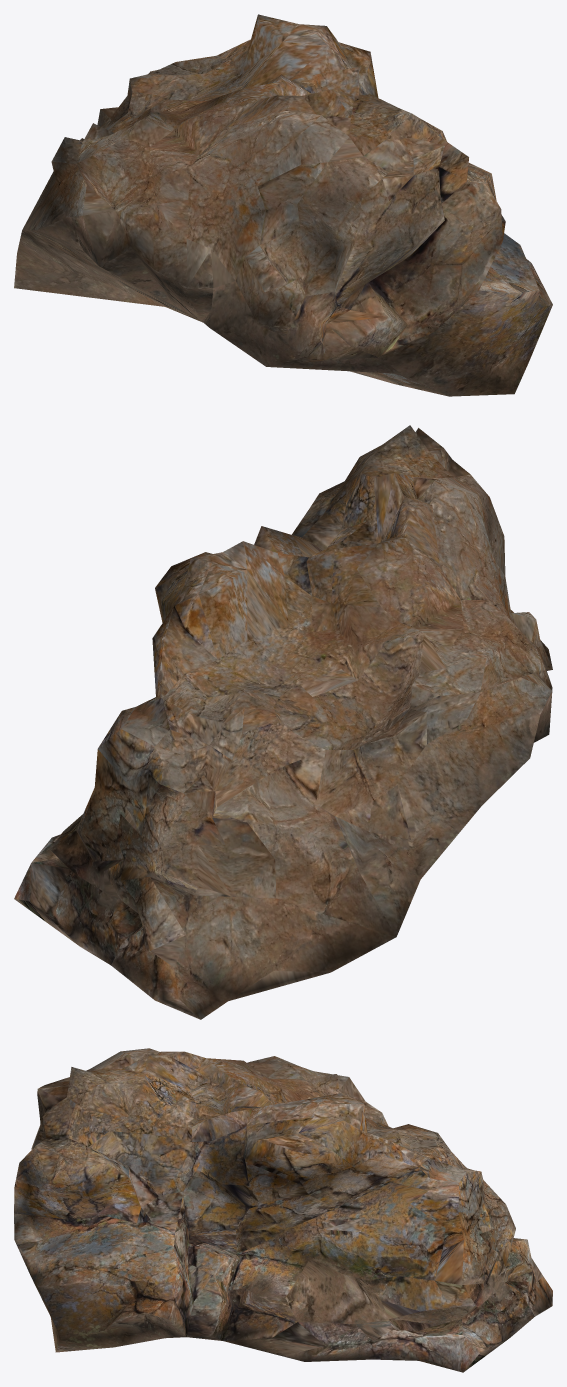
File: boulder.glb
3 renders of one model, top to bottom at view 1: azimuth 30°, elevation 25°; view 2: azimuth 150°, elevation 25°; view 3: azimuth 270°, elevation 25°, orthographic. The views are drawn at different scales.
Parts seen in each view (by area): view 1: boulder; view 2: boulder; view 3: boulder.
Part boxes in pixels (left/top/right/bottom): boulder: left=14, top=14, right=552, bottom=396; boulder: left=14, top=425, right=552, bottom=1019; boulder: left=14, top=1048, right=552, bottom=1372.
Bounding box in the file's own units: 1.28 × 1 × 1.79.
1 material, 1 textured.
